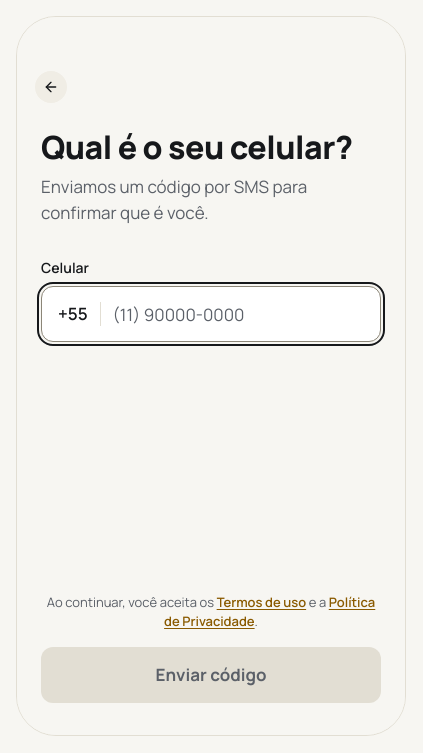
SignInPhonePage (screen 03) › formats the number while typing
Type "11900000000" into the field labelled "Celular" at (238, 314), box [113,287,364,341]
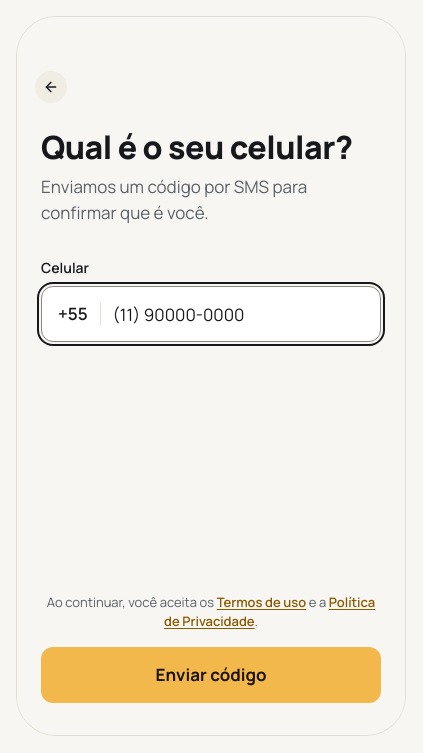
expect the field labelled "Celular" holds "(11) 90000-0000": met, box [113,287,364,341]
